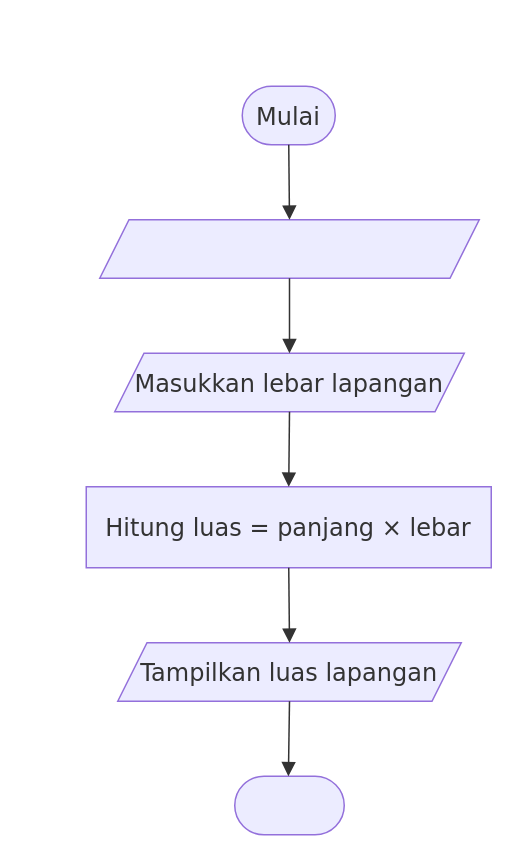
This 518x861 diagram has some shape labels left out. The centre of each missing label's shape, as x and y in pixels:
Masukkan panjang lapangan: (x=288, y=248)
Selesai: (x=288, y=805)
